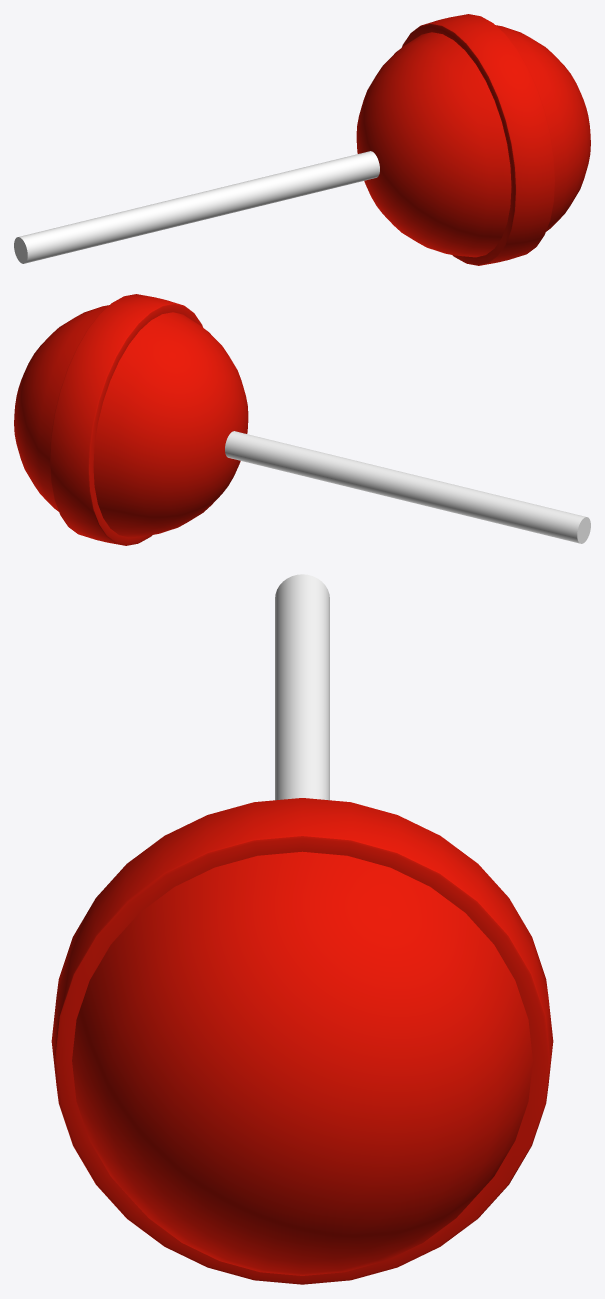
The model's file is Lollipop.fbx.
3 views of the same model, one above another, from view 1: azimuth 30°, elevation 25°; view 2: azimuth 150°, elevation 25°; view 3: azimuth 270°, elevation 25° (orthographic). The views are drawn at different scales.
Visible parts, largest first — view 1: Lollipop; view 2: Lollipop; view 3: Lollipop.
Part boxes in pixels (<box>): Lollipop: <box>14,14,590,265</box>; Lollipop: <box>14,294,590,545</box>; Lollipop: <box>51,574,553,1284</box>.
Size of the model in its own units: 545 by 213 by 213.
